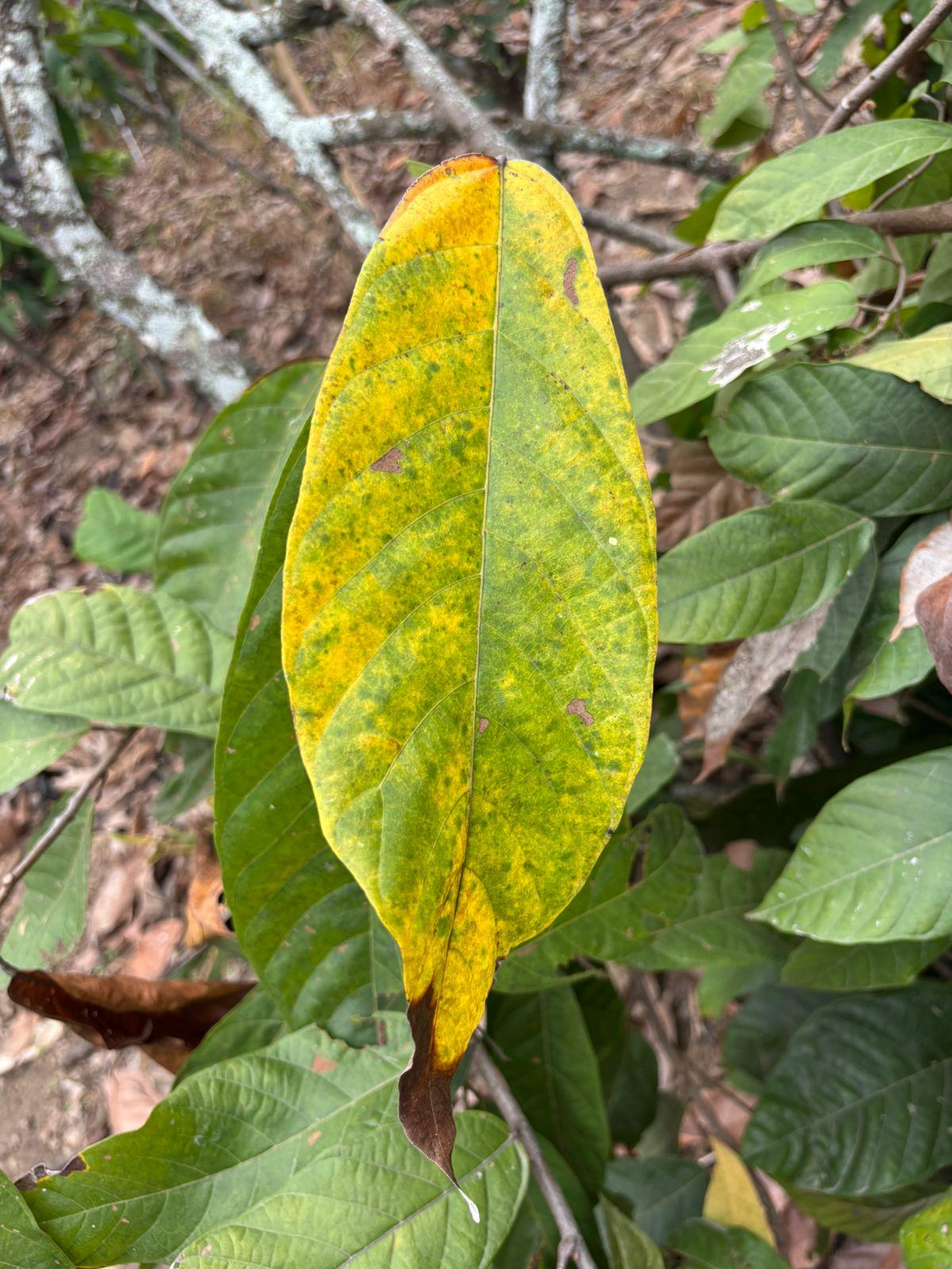deficienciia_fosforo: (282, 155, 656, 1175)
